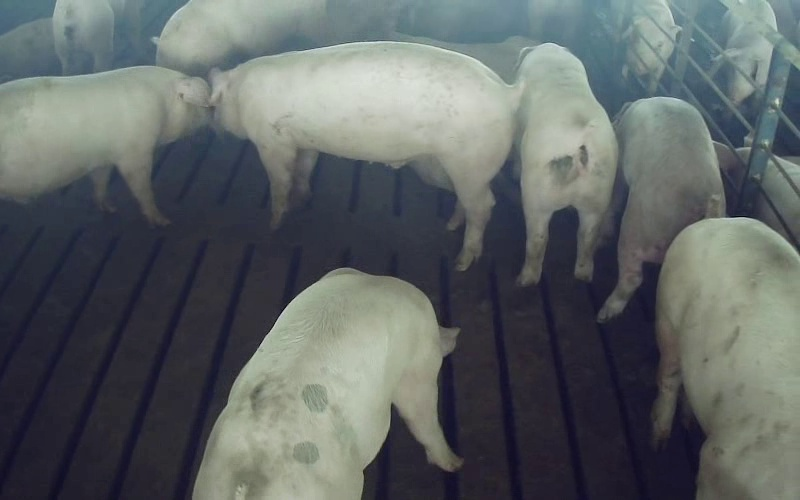pig: (212, 42, 523, 269), (194, 268, 461, 499), (652, 220, 799, 499), (0, 66, 208, 224), (598, 97, 724, 321), (517, 43, 617, 285), (156, 0, 326, 76)
